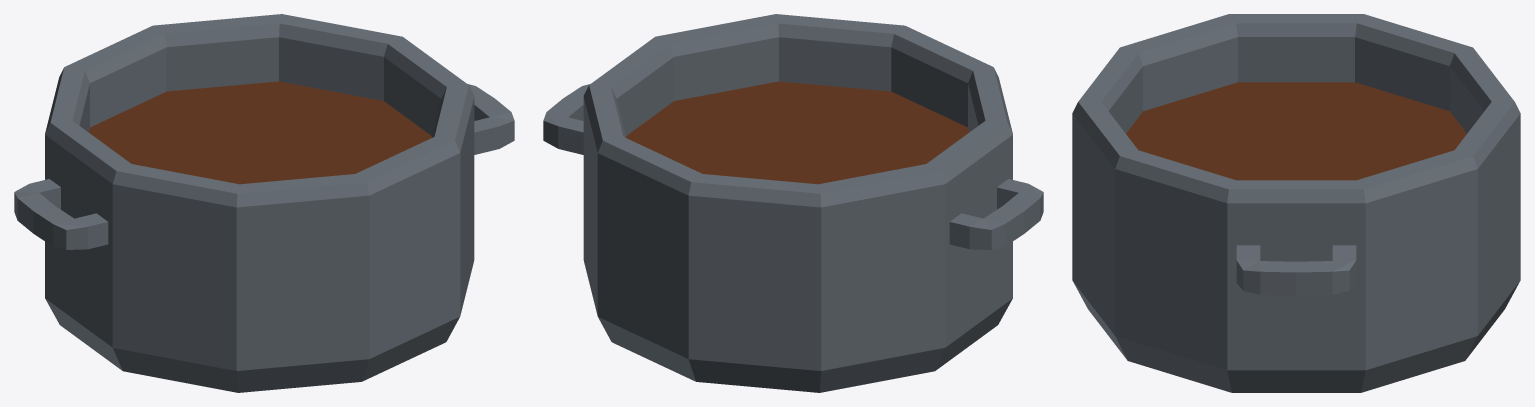
The model's file is CookingPot_Soup.obj.
3 renders of one model, left to right at view 1: azimuth 30°, elevation 25°; view 2: azimuth 150°, elevation 25°; view 3: azimuth 270°, elevation 25°, orthographic. The views are drawn at different scales.
Visible parts, largest first — view 1: CookingPot_Soup_Grey, CookingPot_Soup_Brown; view 2: CookingPot_Soup_Grey, CookingPot_Soup_Brown; view 3: CookingPot_Soup_Grey, CookingPot_Soup_Brown.
Boxes of the visible parts, x1,y1,x2,y2 form: CookingPot_Soup_Grey: [14, 14, 514, 392]; CookingPot_Soup_Brown: [89, 81, 431, 184]; CookingPot_Soup_Grey: [543, 14, 1043, 392]; CookingPot_Soup_Brown: [626, 81, 968, 184]; CookingPot_Soup_Grey: [1072, 14, 1520, 392]; CookingPot_Soup_Brown: [1126, 82, 1466, 180].
Size of the model in its own units: 2.42 by 1.08 by 1.99.
